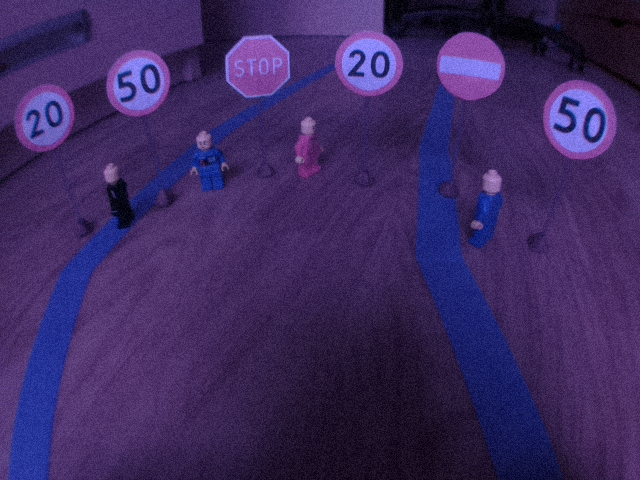LEGO_person: (466, 166, 503, 251), (100, 160, 141, 232), (187, 129, 230, 191), (293, 114, 324, 180)
ogr_20: (332, 29, 406, 99), (11, 82, 77, 152)
ogr_50: (539, 76, 620, 164), (103, 47, 173, 119)
stop: (221, 34, 294, 99)
zakaz: (433, 30, 509, 104)
